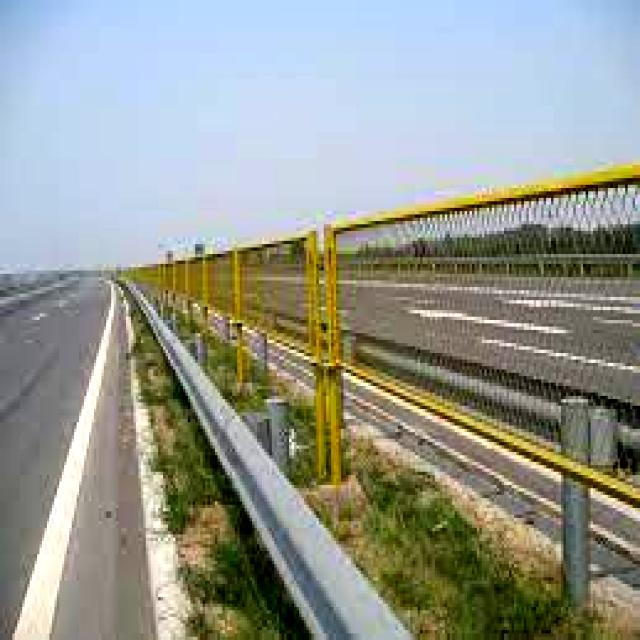Guard rail: (126, 286, 411, 638)
